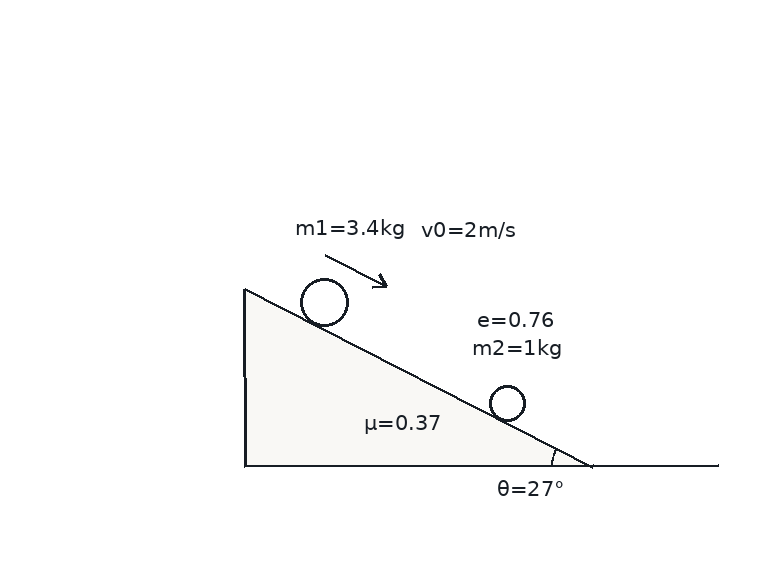ball: (298, 276, 350, 328), (487, 383, 527, 423)
ramp: (243, 287, 594, 468)
